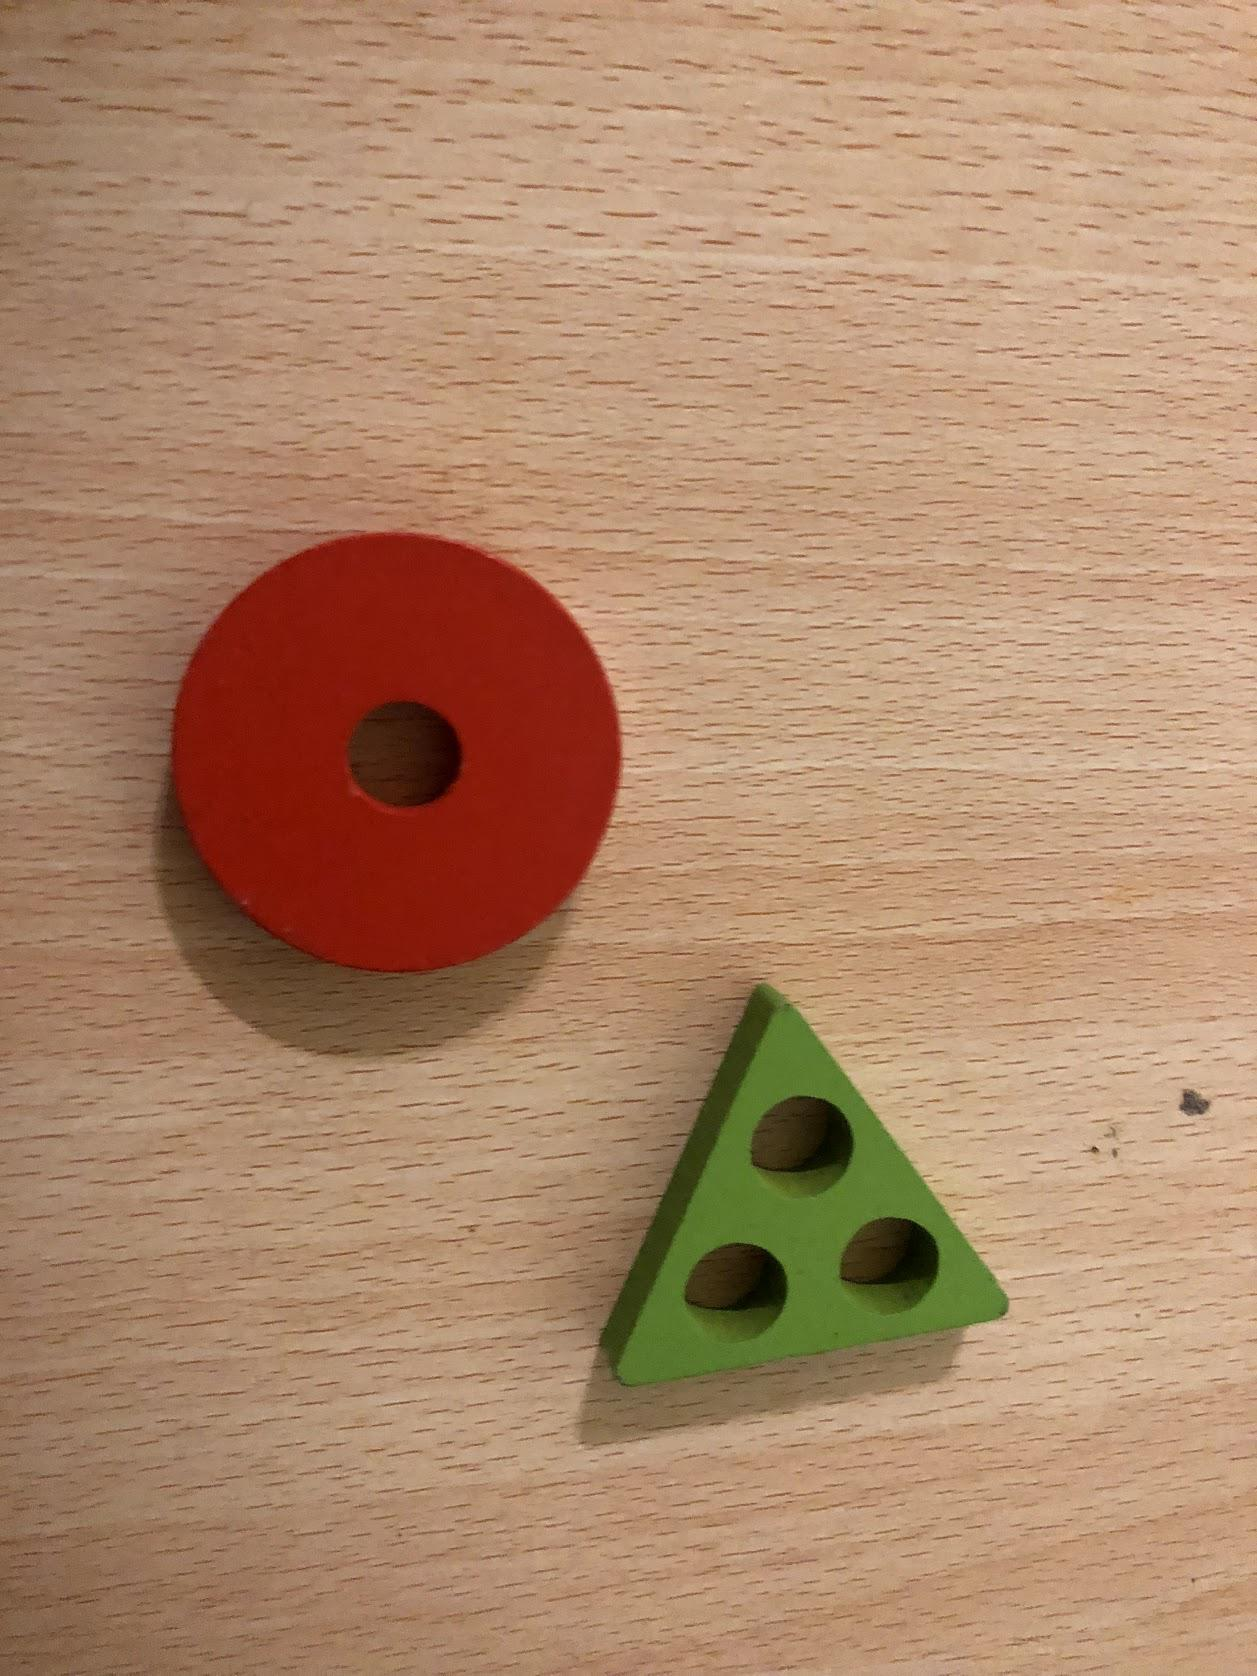Circle: (166, 533, 625, 977)
Triangle: (599, 990, 1013, 1376)
